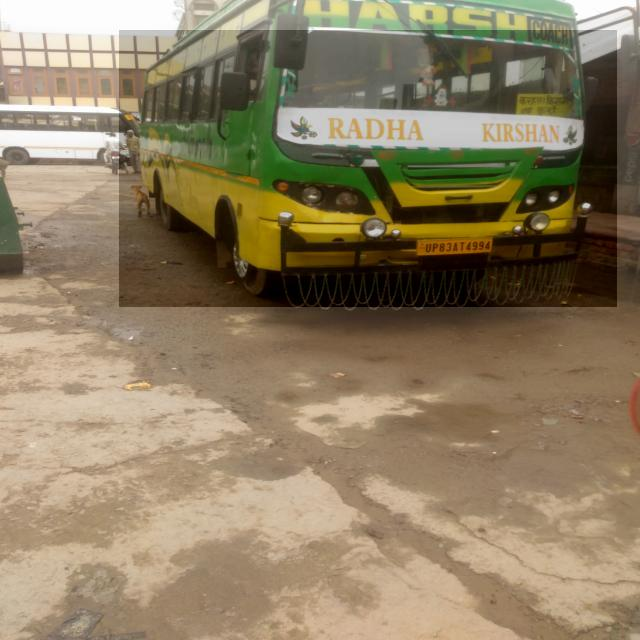Bus: (119, 30, 617, 307)
